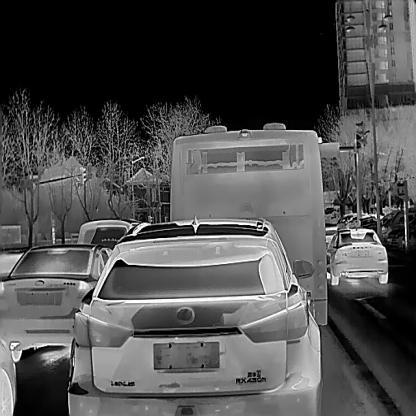car: (68, 216, 322, 412), (168, 121, 326, 326), (0, 241, 112, 360), (327, 225, 387, 284), (78, 218, 140, 243), (382, 211, 416, 238), (388, 220, 416, 246), (355, 215, 379, 230)
